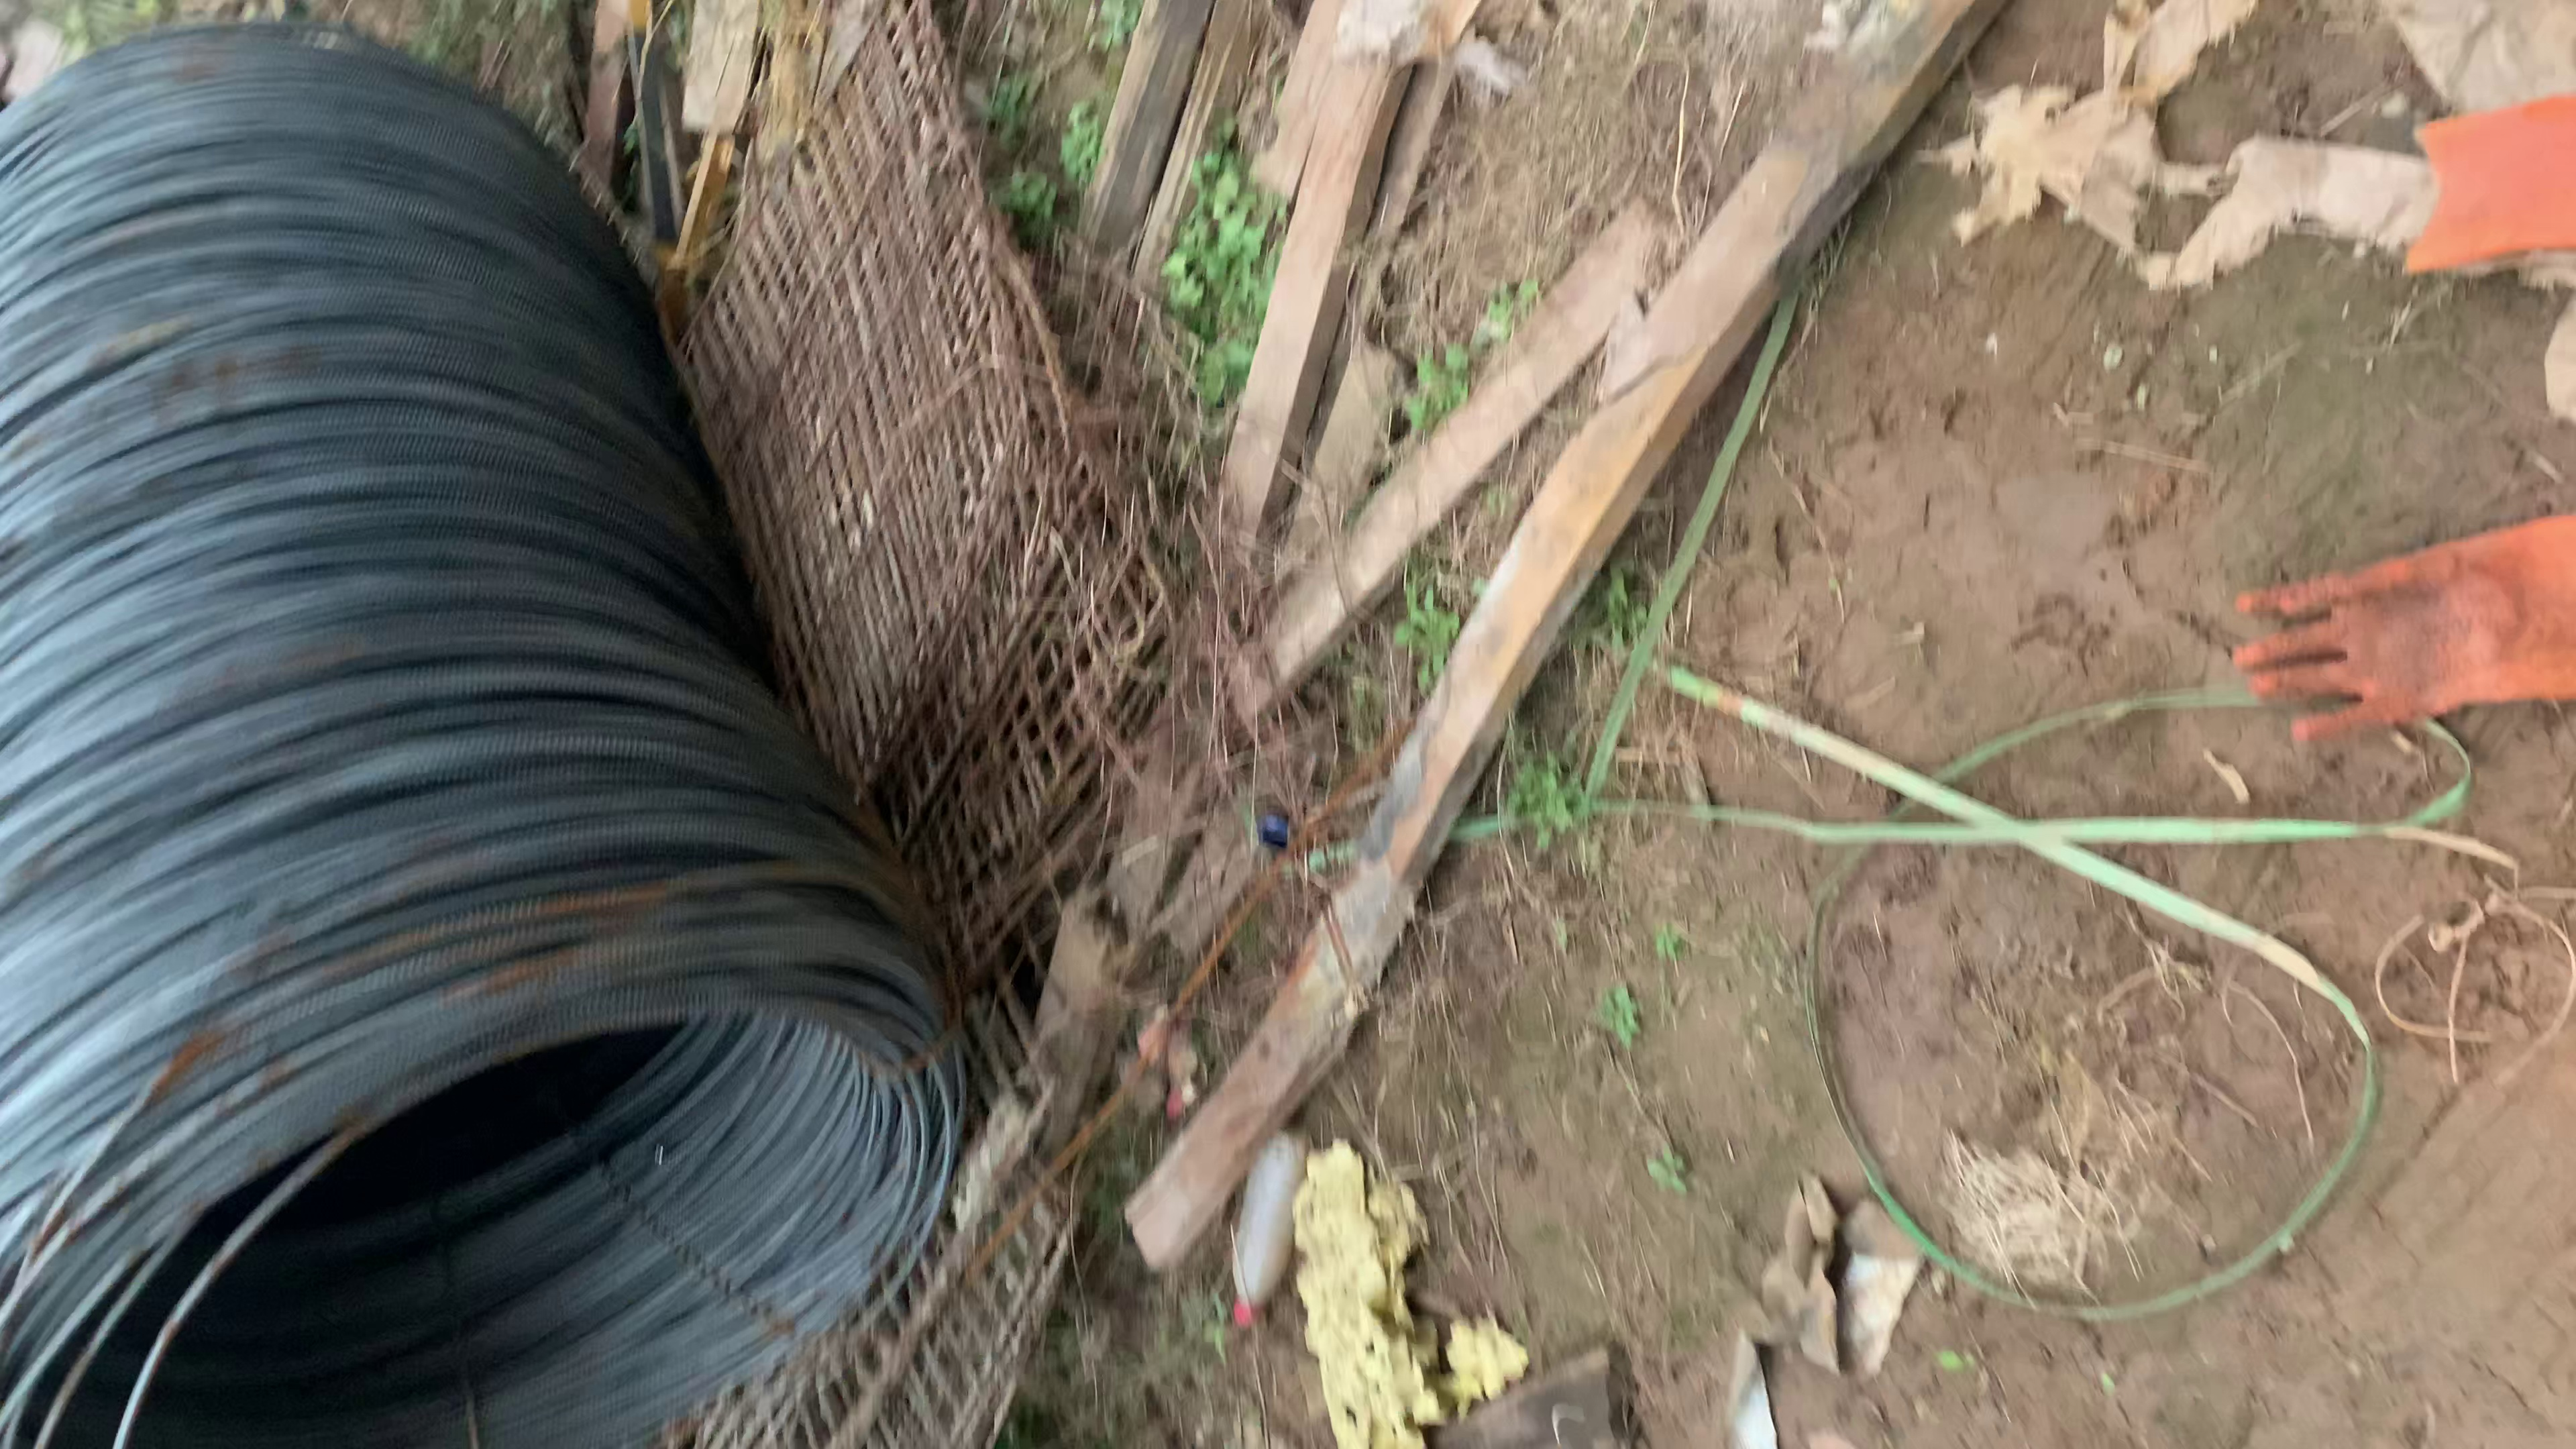coil: (16, 961, 968, 1435)
